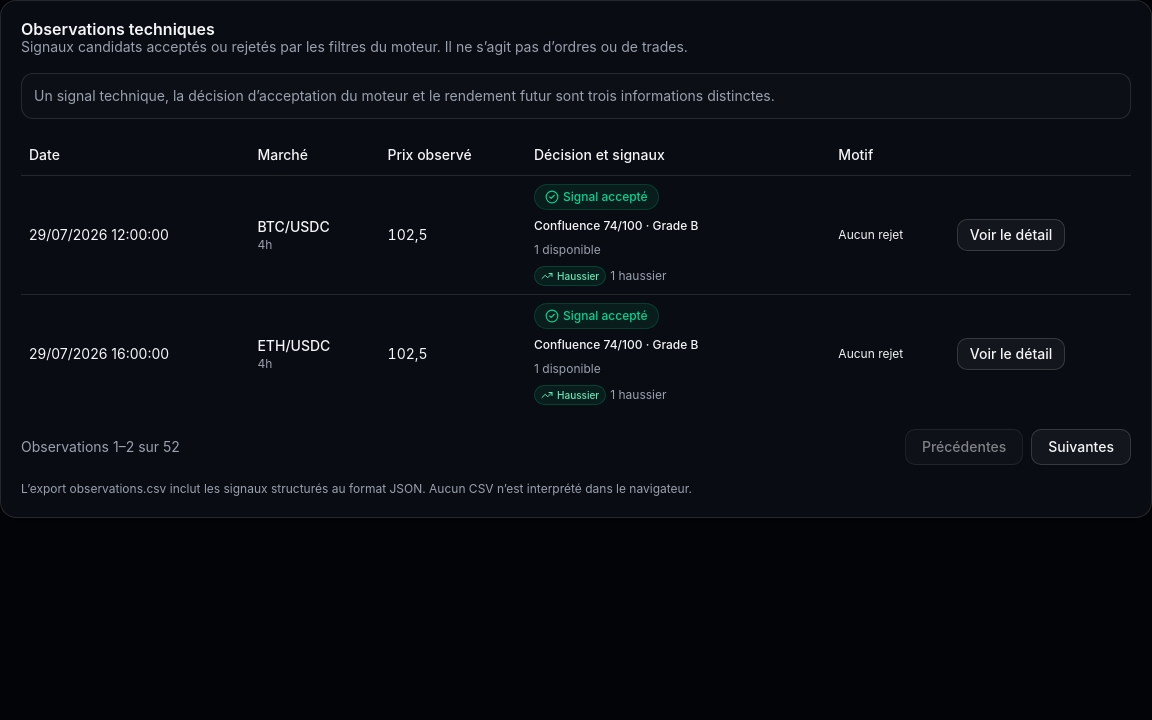
Test: BacktestObservationsTable › conserve l’ordre reçu et ouvre un détail sans muter le store
expect the row that starts with "BTC/USDC" is shown: met, box x1=257 y1=218 x2=330 y2=235
expect the row that starts with "ETH/USDC" is shown: met, box x1=257 y1=337 x2=330 y2=354
What coordinates should you click on to do the following:
click the button with aria-label "Voir les signaux"
I would click on:
 (1011, 354)
Its box is x1=957 y1=338 x2=1065 y2=370.
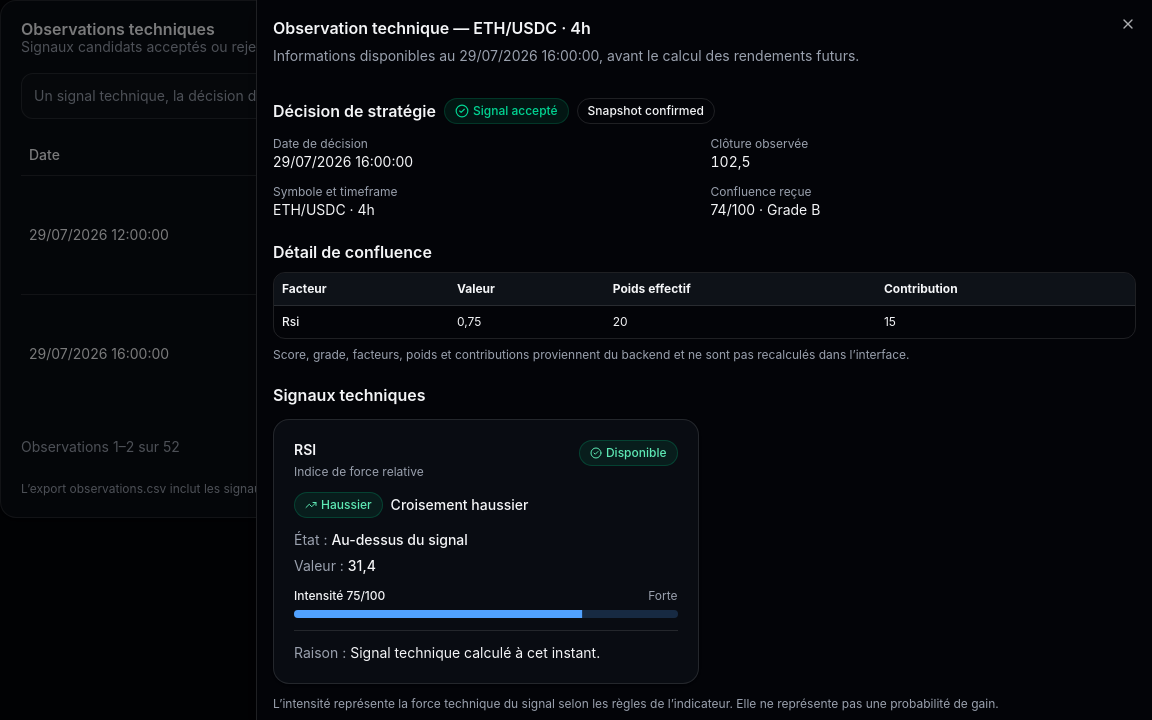
expect the dialog shows "ETH/USDC": met, box x1=473 y1=18 x2=557 y2=38
